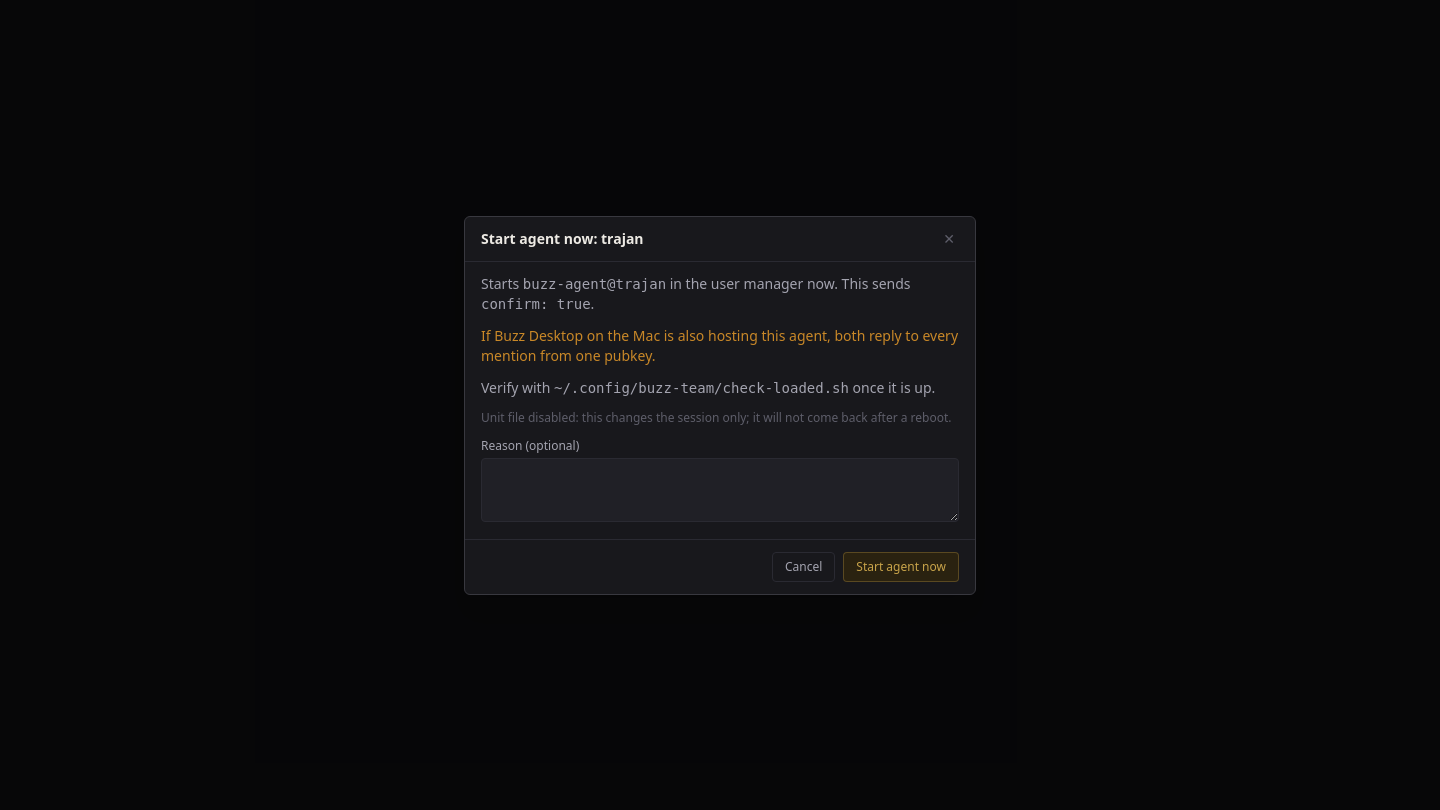
Scenario: RuntimeDialog › start: reason optional, names the double-hosting risk and check-loaded.sh, posts confirm: true, applied re-fetches
expect the dialog "Start agent now: trajan" is shown: met, box [464,216,976,594]
expect the text "Buzz Desktop on the Mac is also hosting" is shown: met, box [481,326,958,364]
Click the button "Start agent now" at (901, 566), box [843,552,959,582]
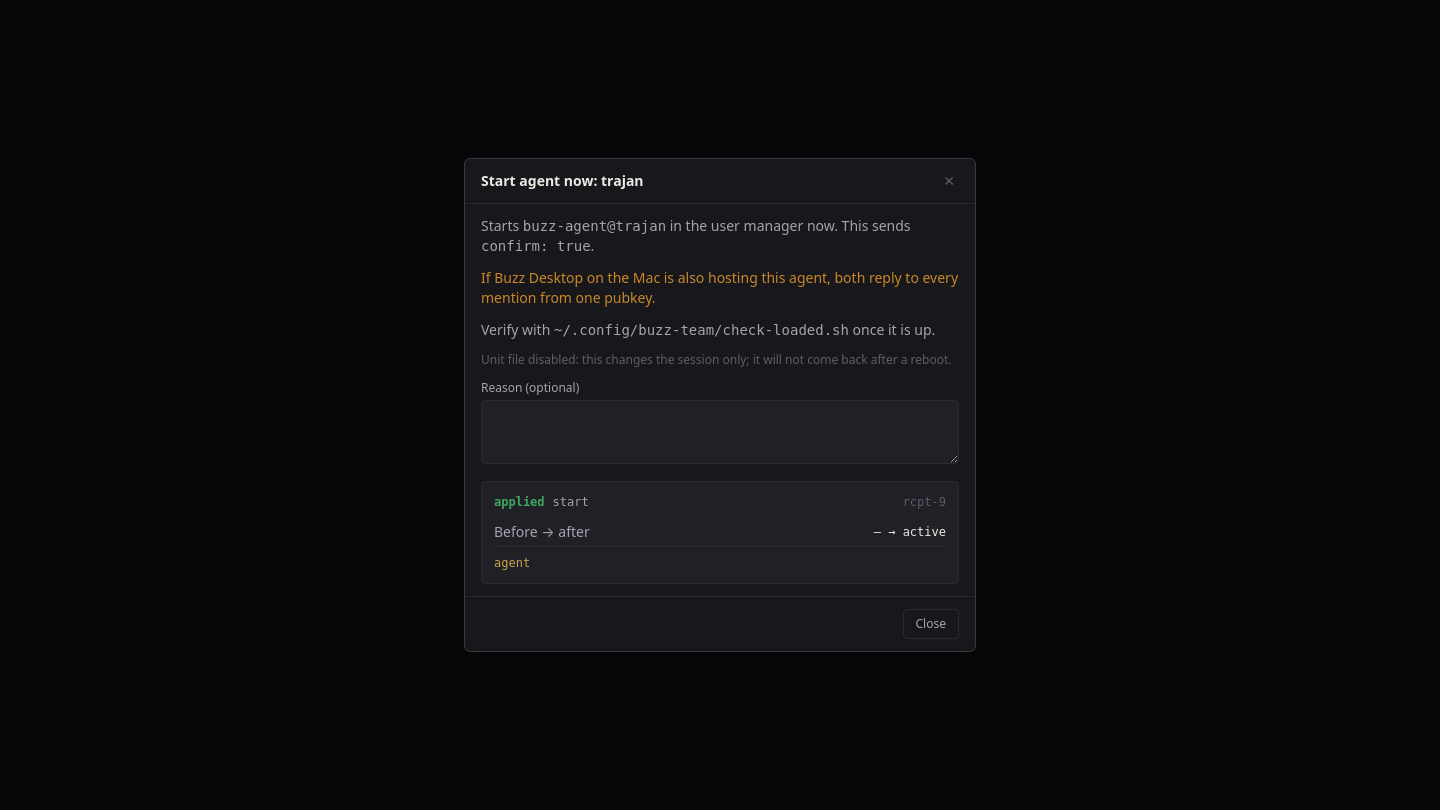
expect the button "Close" is shown: met, box [902,609,959,639]
